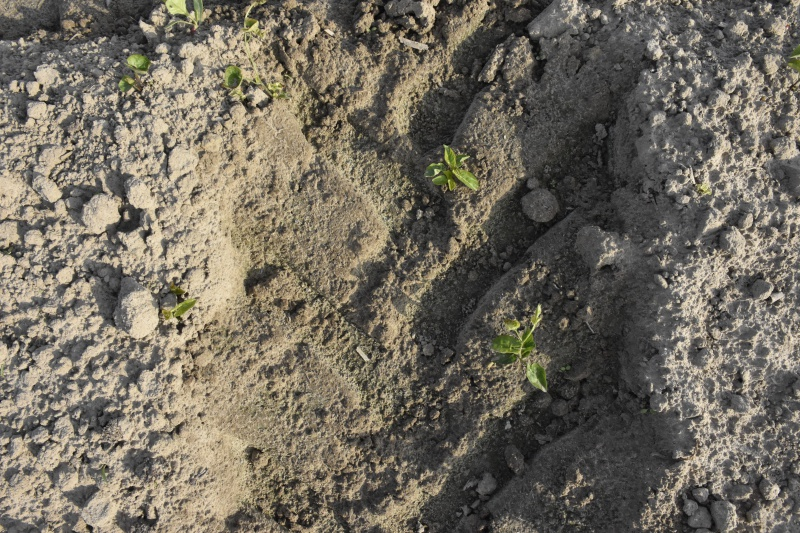field bindweed: (217, 1, 285, 99), (485, 302, 553, 394), (422, 142, 483, 201), (162, 291, 200, 321)
sugar beet: (157, 1, 207, 39)
